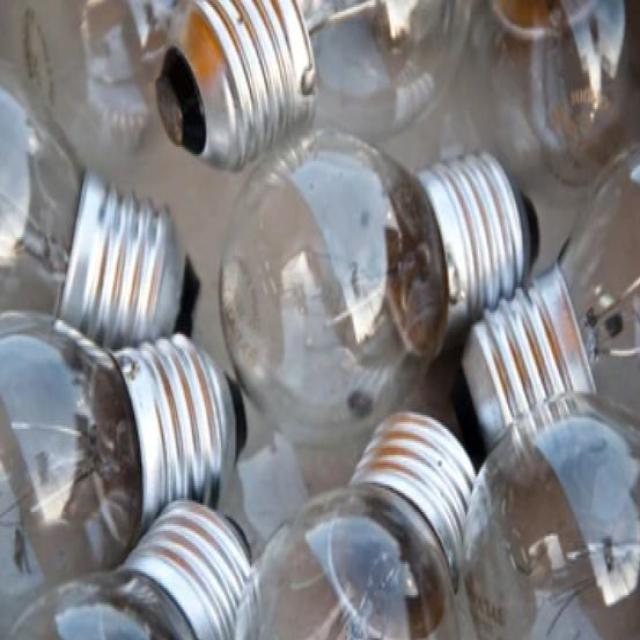electronic: (0, 0, 639, 638), (216, 125, 536, 486), (0, 308, 247, 636), (244, 408, 478, 638), (461, 406, 638, 638), (1, 496, 259, 638), (154, 0, 318, 171)
